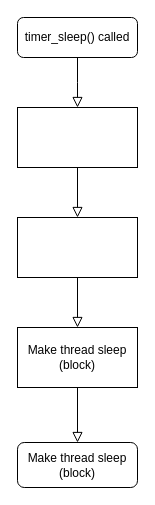
This 155x505 diagram has some shape labels left out. Each missing label, with the centre of its shape:
"calculate when to wake up" goes at pixel 77 137.
"insert thread into sleep_list by wake up time ordering" goes at pixel 77 247.
